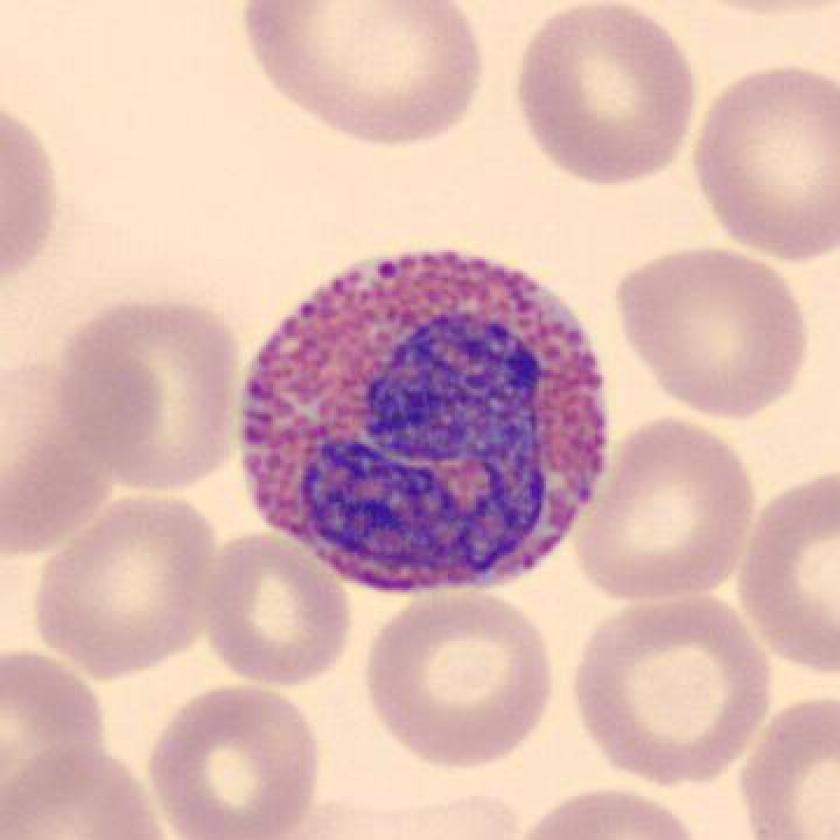eosinophil: (232, 237, 626, 605)
